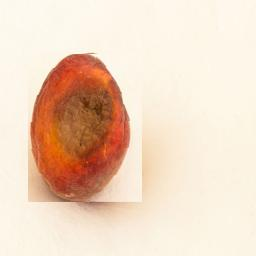Peach Rotten: (28, 54, 142, 202)
